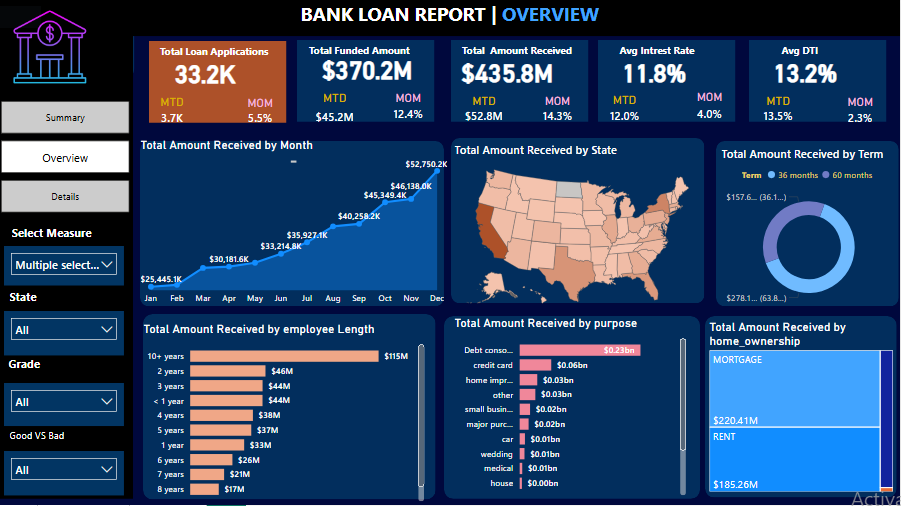

Layout of this report page (visuals, bound fields, positions):
{"tool":"powerbi","page":{"name":"Overview","canvas":[1280,720],"ordinal":1},"visuals":[{"type":"shape","box":[425.8,60.9,194.9,116.2],"z":0,"group":"g5"},{"type":"shape","box":[642.1,60.9,194.9,116.2],"z":0,"group":"g6"},{"type":"shape","box":[851.3,60.9,194.9,116.2],"z":0,"group":"g2"},{"type":"shape","box":[1065.8,60.9,194.9,116.2],"z":0,"group":"g1"},{"type":"shape","box":[214.9,62.7,194.9,116.2],"z":0,"group":"g4"},{"type":"shape","box":[202,203.8,430.8,234.2],"z":0},{"type":"shape","box":[0.3,0.1,194.9,116.2],"z":1000},{"type":"card","fields":{"Values":["Date Table.Total Funded Amount"]},"box":[435,67.2,178.8,66.1],"z":1000,"group":"g5"},{"type":"card","fields":{"Values":["Date Table.Total Amount Received"]},"box":[632.8,71.5,178.8,66.1],"z":1000,"group":"g6"},{"type":"card","fields":{"Values":["Date Table.Avg Interest Rate"]},"box":[842,71.5,178.8,66.1],"z":1000,"group":"g2"},{"type":"card","fields":{"Values":["Date Table.Avg DTI"]},"box":[1056.5,71.5,178.8,66.1],"z":1000,"group":"g1"},{"type":"card","fields":{"Values":["Date Table.Total Loan Applications"]},"box":[205.6,73.3,178.8,66.1],"z":1000,"group":"g4"},{"type":"shape","box":[0,55.3,192.8,656.2],"z":2000},{"type":"textbox","box":[425.5,60.8,195.6,35.4],"z":2000,"group":"g5"},{"type":"textbox","box":[641.8,60.8,195.6,35.4],"z":2000,"group":"g6"},{"type":"textbox","box":[851,60.8,195.6,35.4],"z":2000,"group":"g2"},{"type":"textbox","box":[1065.5,60.8,195.6,35.4],"z":2000,"group":"g1"},{"type":"textbox","box":[214.6,62.6,195.6,35.4],"z":2000,"group":"g4"},{"type":"shape","box":[0,0,1280,55.7],"z":3000},{"type":"card","title":"MOM","fields":{"Values":["Date Table.MOM total avg intreset amount"]},"box":[972,132,75.1,53.6],"z":3000,"group":"g2"},{"type":"card","title":"MOM","fields":{"Values":["Date Table.MOM total funded amount"]},"box":[547.7,133.3,71.5,48.3],"z":3000,"group":"g5"},{"type":"card","title":"MOM","fields":{"Values":["Date Table.MOM total Amount Recieved"]},"box":[762.8,137.2,60.8,44.7],"z":3000,"group":"g6"},{"type":"card","title":"MOM","fields":{"Values":["Date Table.MOM AVG DTI"]},"box":[1187.8,138.1,71.5,48.3],"z":3000,"group":"g1"},{"type":"card","title":"MOM","fields":{"Values":["Date Table.MOM Loan Application"]},"box":[336.8,140.2,71.5,46.5],"z":3000,"group":"g4"},{"type":"textbox","box":[425.5,0,445.1,55.4],"z":4000},{"type":"card","title":"MTD","fields":{"Values":["Date Table.MTD Funded Amount"]},"box":[436.8,133.3,84,57.2],"z":4000,"group":"g5"},{"type":"card","title":"MTD","fields":{"Values":["Date Table.MTD Avg Intrest rate"]},"box":[861.2,135.6,55.4,48.3],"z":4000,"group":"g2"},{"type":"card","title":"MTD","fields":{"Values":["Date Table.MTD Avg DTI"]},"box":[1076.4,137,62.6,46.5],"z":4000,"group":"g1"},{"type":"card","title":"MTD","fields":{"Values":["Date Table.MTD Total Amount Recieved"]},"box":[652,137.2,73.3,44.7],"z":4000,"group":"g6"},{"type":"card","title":"MTD","fields":{"Values":["Date Table.MTD Loan Application"]},"box":[224.6,139.2,48.2,49.6],"z":4000,"group":"g4"},{"type":"group","id":"g1","title":"Group 5","box":[1056.5,60.8,204.6,125.5],"z":4012,"group":"g3"},{"type":"group","id":"g2","title":"Group 1","box":[842,60.8,203.8,125.1],"z":5000},{"type":"group","id":"g3","title":"Group 1","box":[1056.5,60.8,204.6,125.5],"z":6000},{"type":"group","id":"g4","title":"Group 2","box":[205.6,62.6,204.6,126.2],"z":7000},{"type":"group","id":"g5","title":"Group 3","box":[425.5,60.8,196.6,130.5],"z":8000},{"type":"group","id":"g6","title":"Group 4","box":[632.8,60.8,205.6,121.6],"z":9000},{"type":"slicer","fields":{"Values":["financial_loan.address_state"]},"box":[10,445.2,169.8,62.8],"z":10000},{"type":"textbox","box":[361.1,227,67.9,12.5],"z":11000},{"type":"textbox","box":[12.8,408.1,85.6,37.1],"z":12000},{"type":"slicer","fields":{"Values":["financial_loan.grade"]},"box":[10,546.5,169.8,61.4],"z":13000},{"type":"textbox","box":[11.4,503.7,97,42.8],"z":14000},{"type":"slicer","fields":{"Values":["financial_loan.Good vs Bad"]},"box":[10,643.6,169.8,62.8],"z":15000},{"type":"textbox","box":[12.8,607.9,107,35.7],"z":16000},{"type":"areaChart","fields":{"Y":["Date Table.Total Funded Amount"],"Category":["Date Table.Month"]},"box":[198.4,200.2,445.1,244.9],"z":17000},{"type":"slicer","fields":{"Values":["Select  Measure.Select  Measure"]},"box":[10,352.5,169.8,55.7],"z":18000},{"type":"textbox","box":[11.4,316.8,169.8,35.7],"z":19000},{"type":"shape","box":[643.6,200.2,359.3,234.2],"z":20000},{"type":"shapeMap","fields":{"Value":["Date Table.Total Funded Amount"],"Category":["financial_loan.address_state"]},"box":[643.6,205.6,359.3,246.7],"z":21000},{"type":"shape","box":[1019,203.8,259.2,234.2],"z":21001},{"type":"donutChart","fields":{"Category":["financial_loan.term"],"Y":["Date Table.Total Funded Amount"]},"box":[1022.6,210.9,257.4,237.8],"z":21002},{"type":"shape","box":[207.4,448.7,414.7,262.8],"z":21003},{"type":"shape","box":[632.8,452.3,362.9,259.2],"z":21004},{"type":"barChart","fields":{"Category":["financial_loan.emp_length"],"Y":["Date Table.Total Funded Amount"]},"box":[202,461.2,407.6,259.2],"z":21005},{"type":"barChart","fields":{"Category":["financial_loan.purpose"],"Y":["Date Table.Total Funded Amount"]},"box":[643.6,452.3,337.9,259.2],"z":21006},{"type":"shape","box":[1002.9,452.3,271.7,257.4],"z":21007},{"type":"treemap","fields":{"Group":["financial_loan.home_ownership"],"Values":["Date Table.Total Funded Amount"]},"box":[1004.7,457.7,269.9,248.5],"z":21008},{"type":"pageNavigator","box":[5.7,147,182.7,158.4],"z":21009},{"type":"image","box":[11.4,4.3,127,132.7],"z":21010}]}

Visuals, with their boxes in screenshot pixels (x1, y1, x2, y2), scaled from the page's 1280x720 canvas onto the 901x506 screenshot:
shape: bbox(300, 43, 437, 124)
shape: bbox(452, 43, 589, 124)
shape: bbox(599, 43, 736, 124)
shape: bbox(750, 43, 887, 124)
shape: bbox(151, 44, 288, 126)
shape: bbox(142, 143, 445, 308)
shape: bbox(0, 0, 137, 82)
card - Date Table.Total Funded Amount: bbox(306, 47, 432, 94)
card - Date Table.Total Amount Received: bbox(445, 50, 571, 97)
card - Date Table.Avg Interest Rate: bbox(593, 50, 719, 97)
card - Date Table.Avg DTI: bbox(744, 50, 870, 97)
card - Date Table.Total Loan Applications: bbox(145, 52, 271, 98)
shape: bbox(0, 39, 136, 500)
textbox: bbox(300, 43, 437, 68)
textbox: bbox(452, 43, 589, 68)
textbox: bbox(599, 43, 737, 68)
textbox: bbox(750, 43, 888, 68)
textbox: bbox(151, 44, 289, 69)
shape: bbox(0, 0, 900, 39)
"MOM" card: bbox(684, 93, 737, 130)
"MOM" card: bbox(386, 94, 436, 128)
"MOM" card: bbox(537, 96, 580, 128)
"MOM" card: bbox(836, 97, 886, 131)
"MOM" card: bbox(237, 99, 287, 131)
textbox: bbox(300, 0, 613, 39)
"MTD" card: bbox(307, 94, 367, 134)
"MTD" card: bbox(606, 95, 645, 129)
"MTD" card: bbox(758, 96, 802, 129)
"MTD" card: bbox(459, 96, 511, 128)
"MTD" card: bbox(158, 98, 192, 133)
"Group 5" group: bbox(744, 43, 888, 131)
"Group 1" group: bbox(593, 43, 736, 131)
"Group 1" group: bbox(744, 43, 888, 131)
"Group 2" group: bbox(145, 44, 289, 133)
"Group 3" group: bbox(300, 43, 438, 134)
"Group 4" group: bbox(445, 43, 590, 128)
slicer - financial_loan.address_state: bbox(7, 313, 127, 357)
textbox: bbox(254, 160, 302, 168)
textbox: bbox(9, 287, 69, 313)
slicer - financial_loan.grade: bbox(7, 384, 127, 427)
textbox: bbox(8, 354, 76, 384)
slicer - financial_loan.Good vs Bad: bbox(7, 452, 127, 496)
textbox: bbox(9, 427, 84, 452)
areaChart - Date Table.Total Funded Amount x Date Table.Month: bbox(140, 141, 453, 313)
slicer - Select  Measure.Select  Measure: bbox(7, 248, 127, 287)
textbox: bbox(8, 223, 128, 248)
shape: bbox(453, 141, 706, 305)
shapeMap - Date Table.Total Funded Amount x financial_loan.address_state: bbox(453, 144, 706, 318)
shape: bbox(717, 143, 900, 308)
donutChart - financial_loan.term x Date Table.Total Funded Amount: bbox(720, 148, 900, 315)
shape: bbox(146, 315, 438, 500)
shape: bbox(445, 318, 701, 500)
barChart - financial_loan.emp_length x Date Table.Total Funded Amount: bbox(142, 324, 429, 505)
barChart - financial_loan.purpose x Date Table.Total Funded Amount: bbox(453, 318, 691, 500)
shape: bbox(706, 318, 897, 499)
treemap - financial_loan.home_ownership x Date Table.Total Funded Amount: bbox(707, 322, 897, 496)
pageNavigator: bbox(4, 103, 133, 215)
image: bbox(8, 3, 97, 96)
